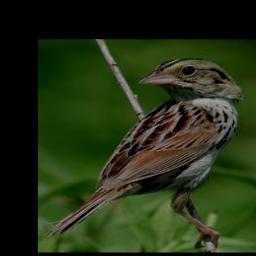Sparrow: (44, 58, 245, 249)
